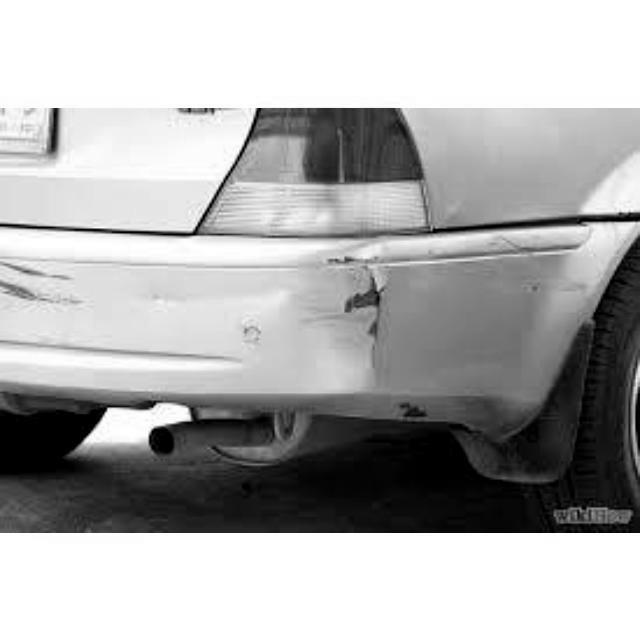rear-bumper-dent: (1, 236, 592, 445)
